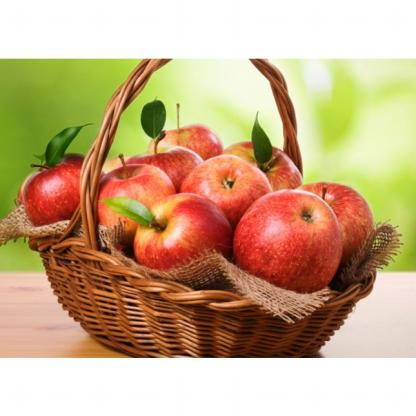apple: (230, 186, 343, 295), (127, 190, 235, 288), (280, 182, 380, 273), (20, 153, 106, 249)
